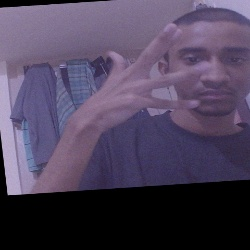hand: (99, 34, 207, 134)
